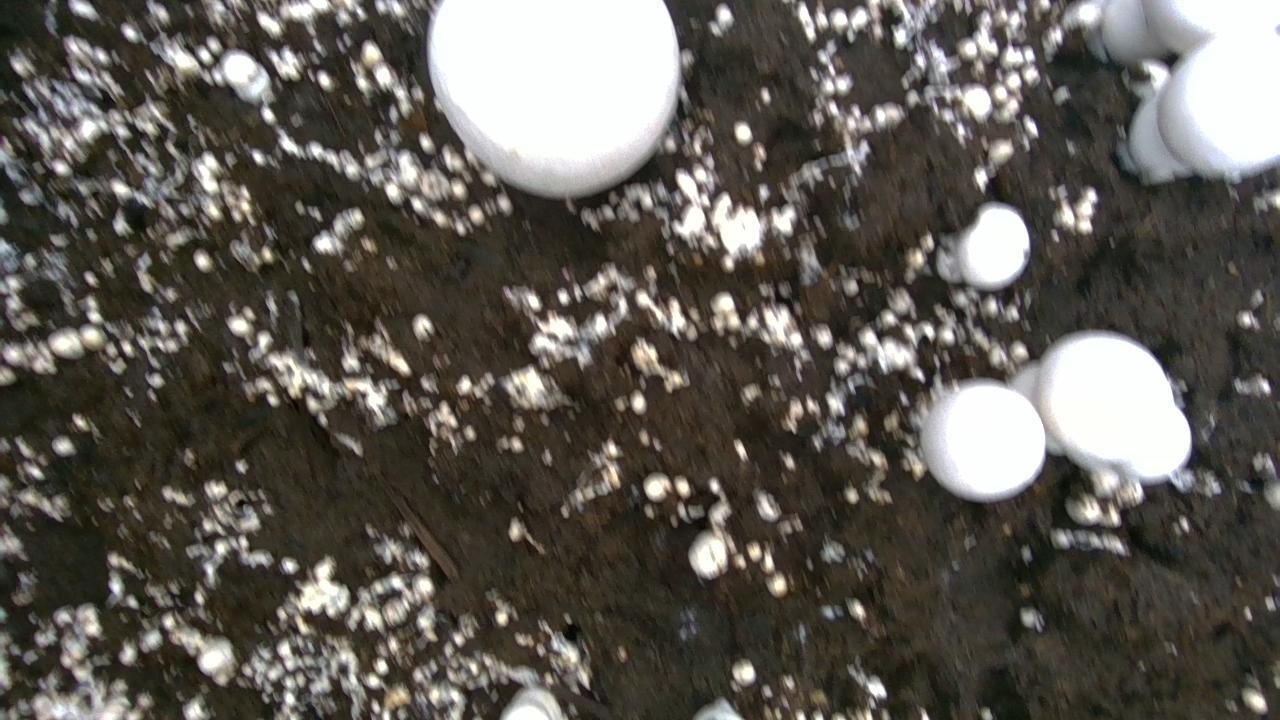WB: (428, 0, 679, 197), (1039, 330, 1177, 464), (1158, 31, 1279, 180), (921, 380, 1044, 501), (936, 202, 1029, 290), (1142, 0, 1279, 52), (1127, 93, 1191, 183), (1133, 406, 1194, 483), (1101, 0, 1166, 64)
